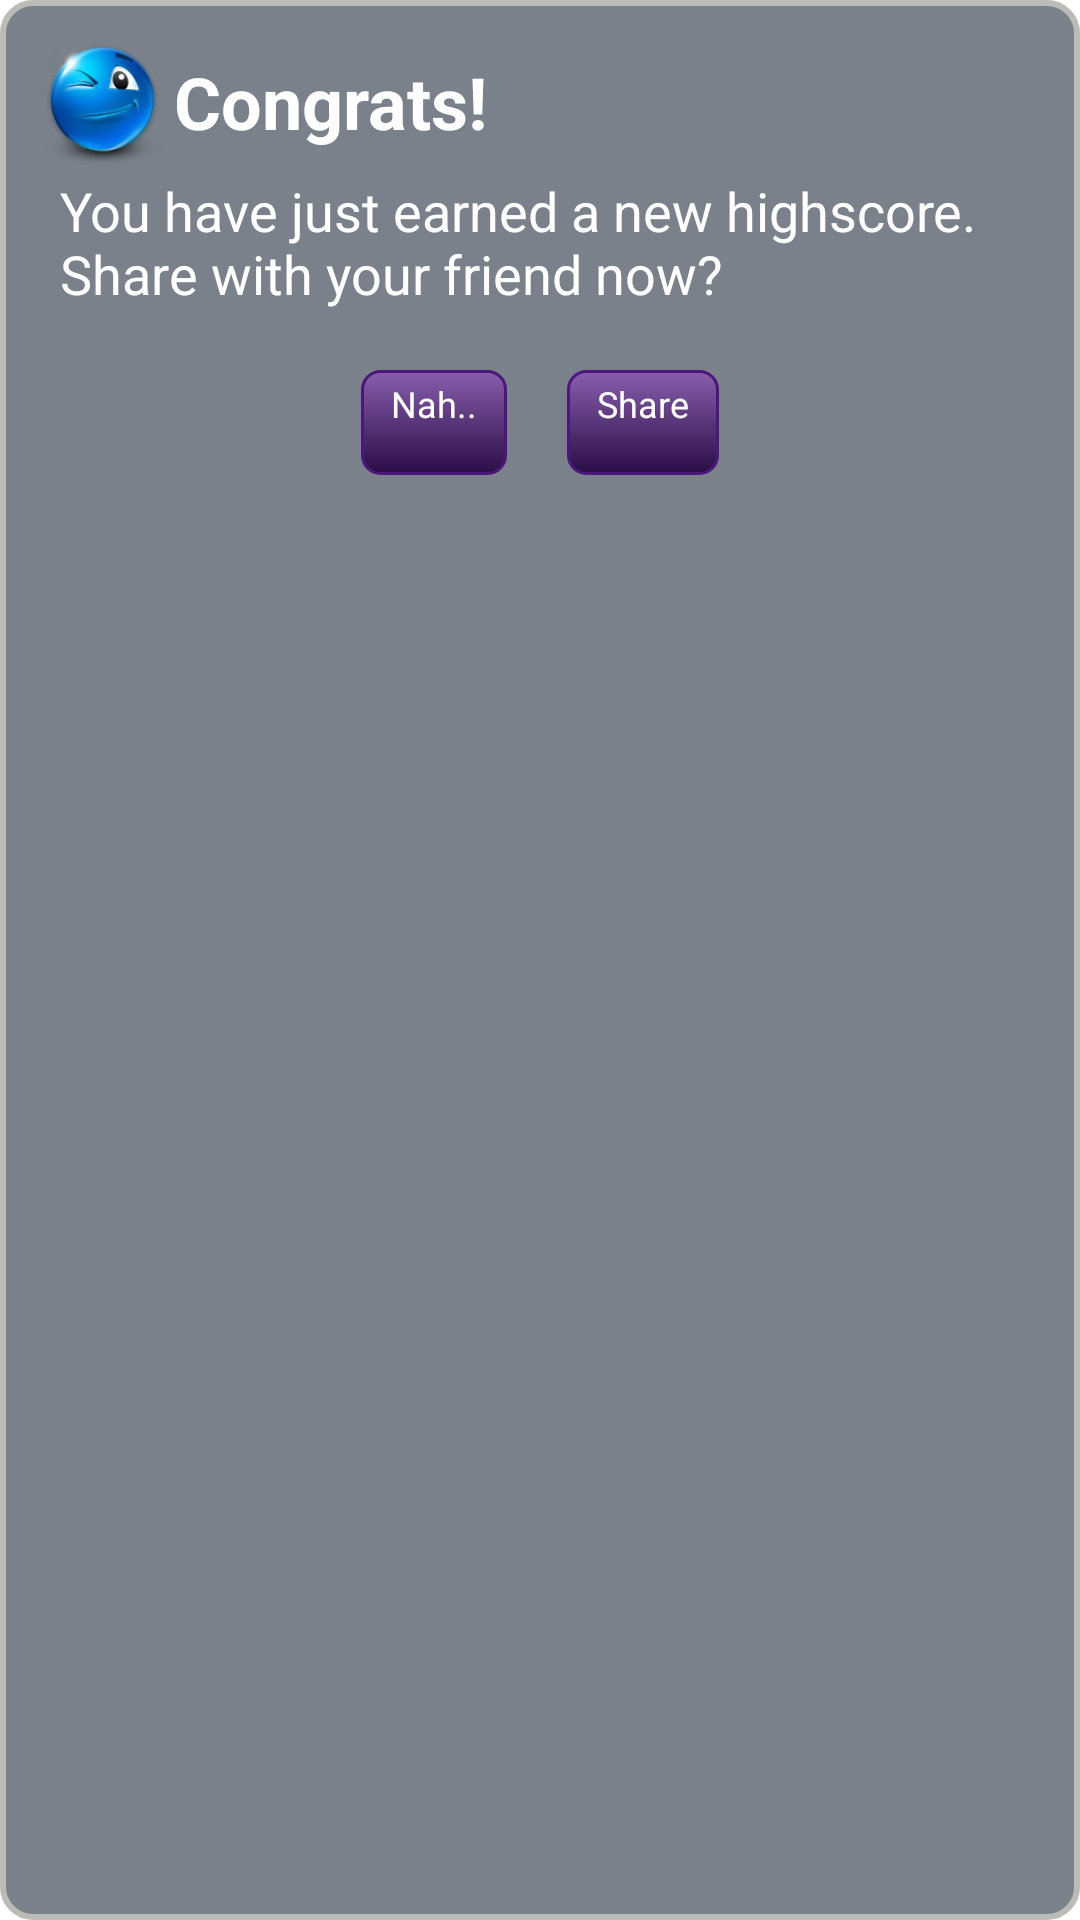

Icons on this 1080w x 1920h Android screen, each with its box as [x1=x1, y1=y1, x2=x2, y2=y2]:
face wink: [x1=50, y1=47, x2=155, y2=159]
